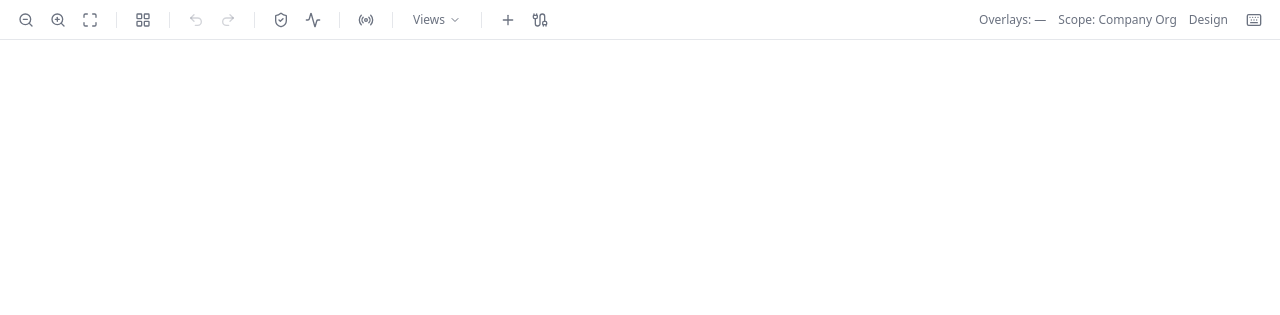
Scenario: CanvasToolbar — Node Palette (CAV-006) › should open node palette with categorized items
Click the button with test id "node-palette-button" at (508, 20), box [494,6,522,34]
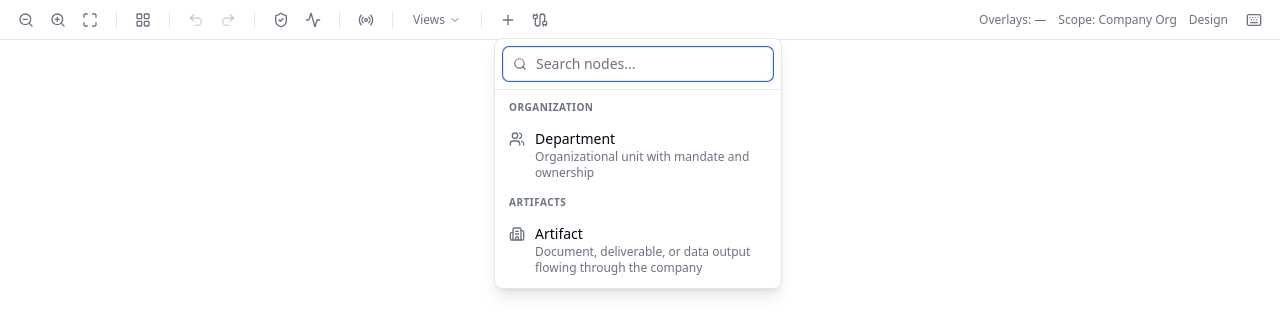
Expected: the element with test id "node-palette" is shown, [494,38,782,288]
Expected: the button with test id "node-palette-item-department" is shown, [499,120,777,188]
